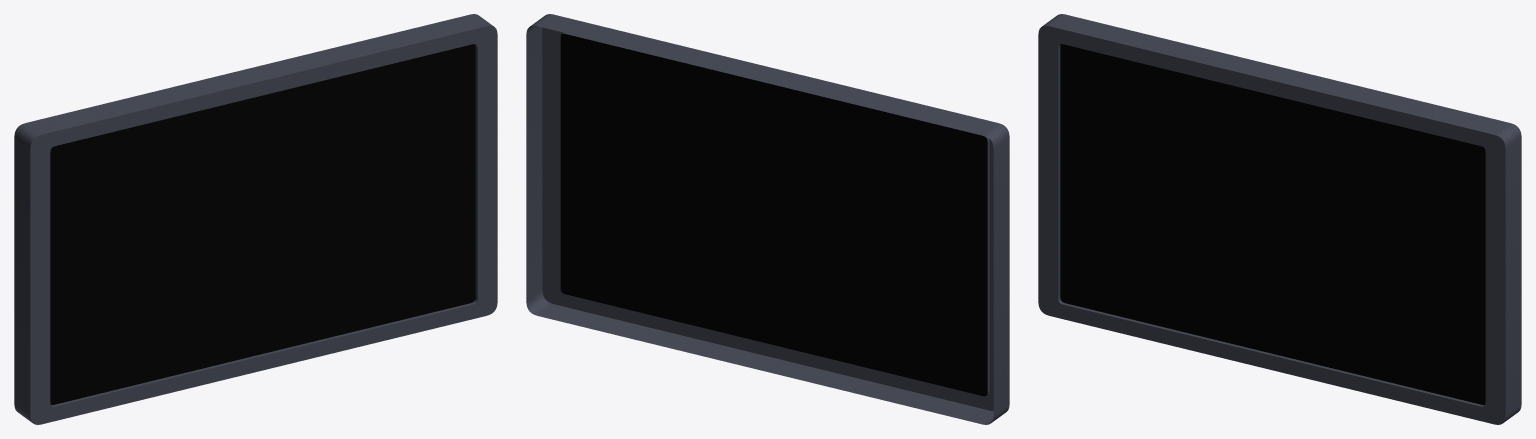
3 views of the same model, side by side, from view 1: azimuth 30°, elevation 25°; view 2: azimuth 150°, elevation 25°; view 3: azimuth 330°, elevation 25° (orthographic).
Visible parts, largest first — view 1: Box011; view 2: Box011; view 3: Box011.
Boxes of the visible parts, box(x1,y1,x2,y2) form: Box011: box(14, 14, 497, 424); Box011: box(526, 14, 1009, 424); Box011: box(1038, 14, 1521, 424).
Bounding box in the file's own units: 141 × 83.3 × 8.39.
Materials: 1 (1 with a texture image).
